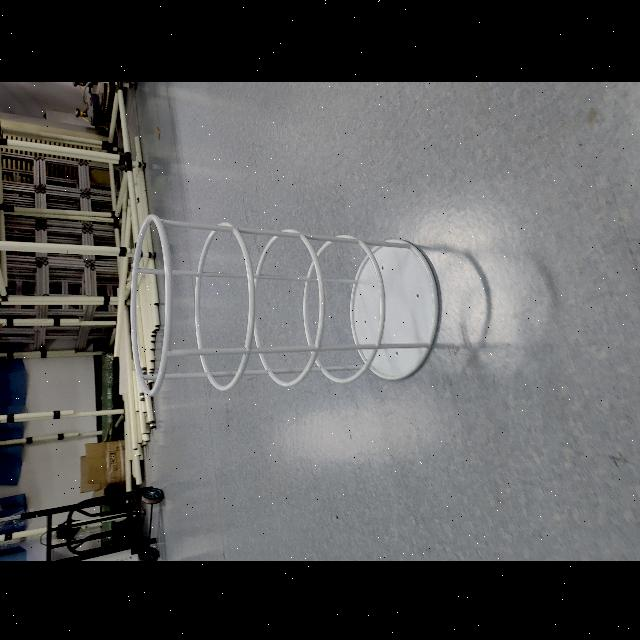S: (128, 214, 442, 398)
